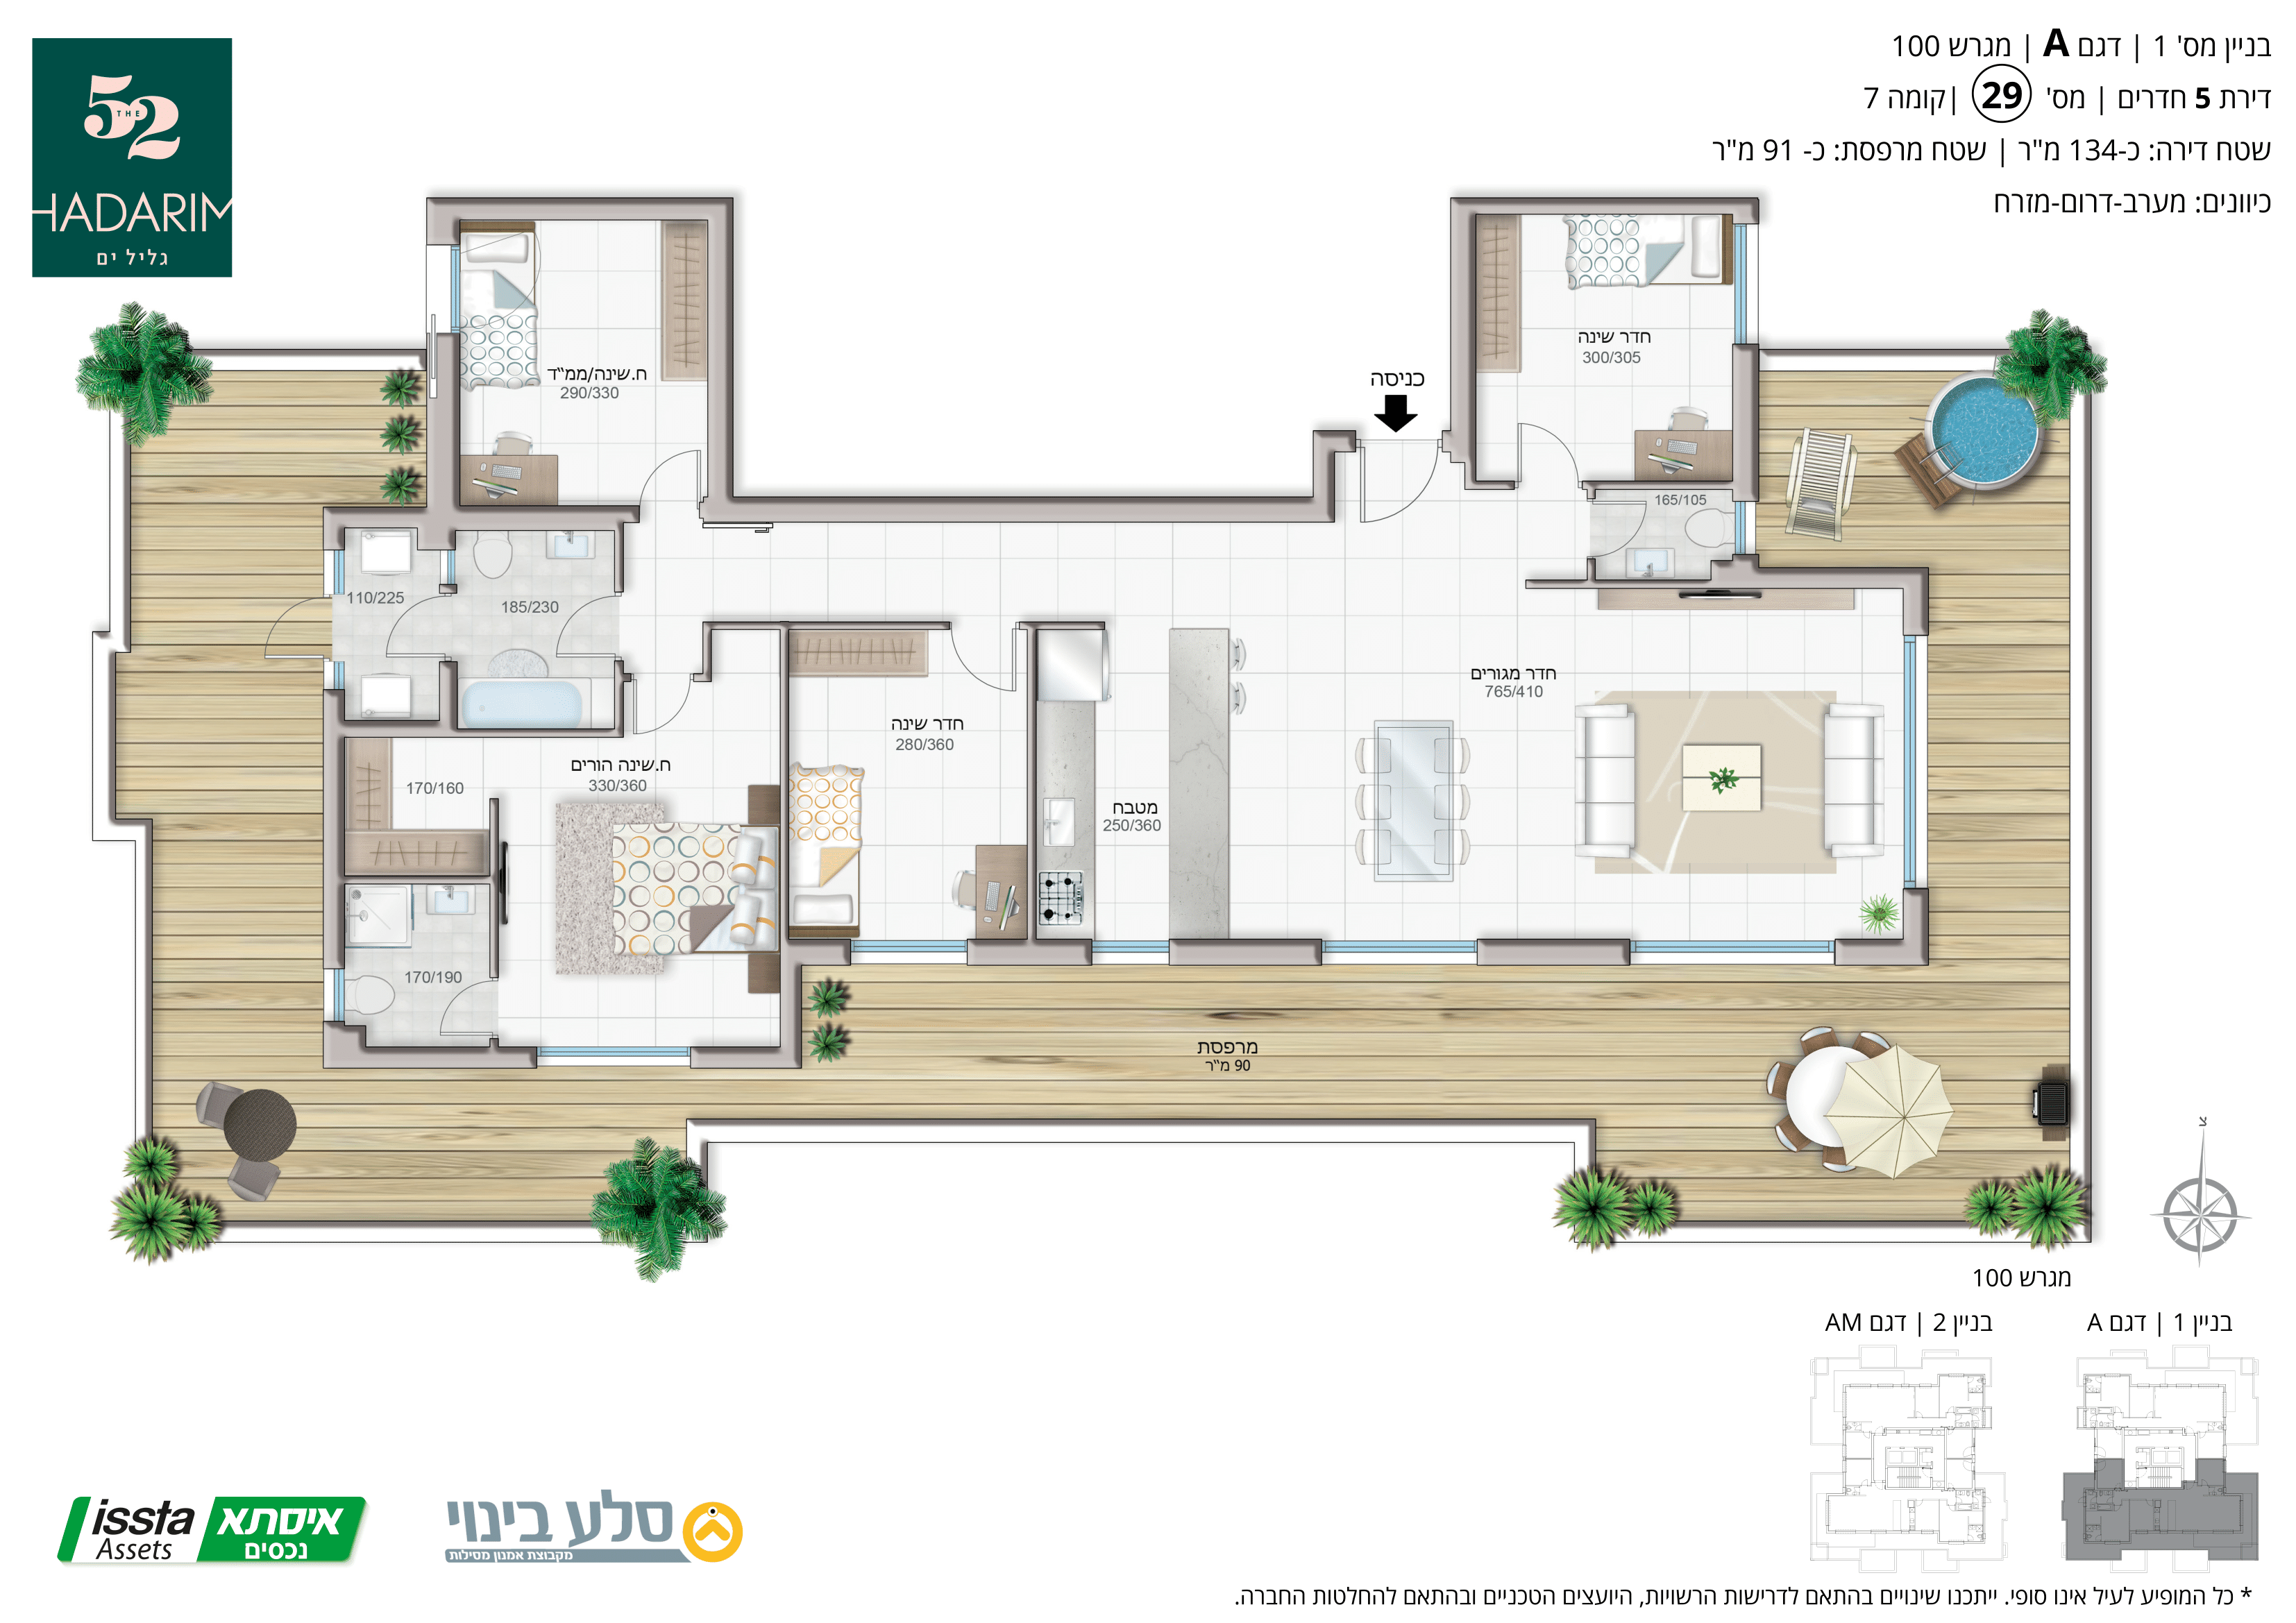door: (938, 639, 1028, 708), (1349, 472, 1433, 537), (636, 434, 708, 502), (437, 966, 497, 1043), (625, 690, 703, 736)
wall: (432, 193, 731, 214), (539, 1045, 685, 1070)
window: (1325, 936, 1481, 968), (1634, 947, 1836, 966)
